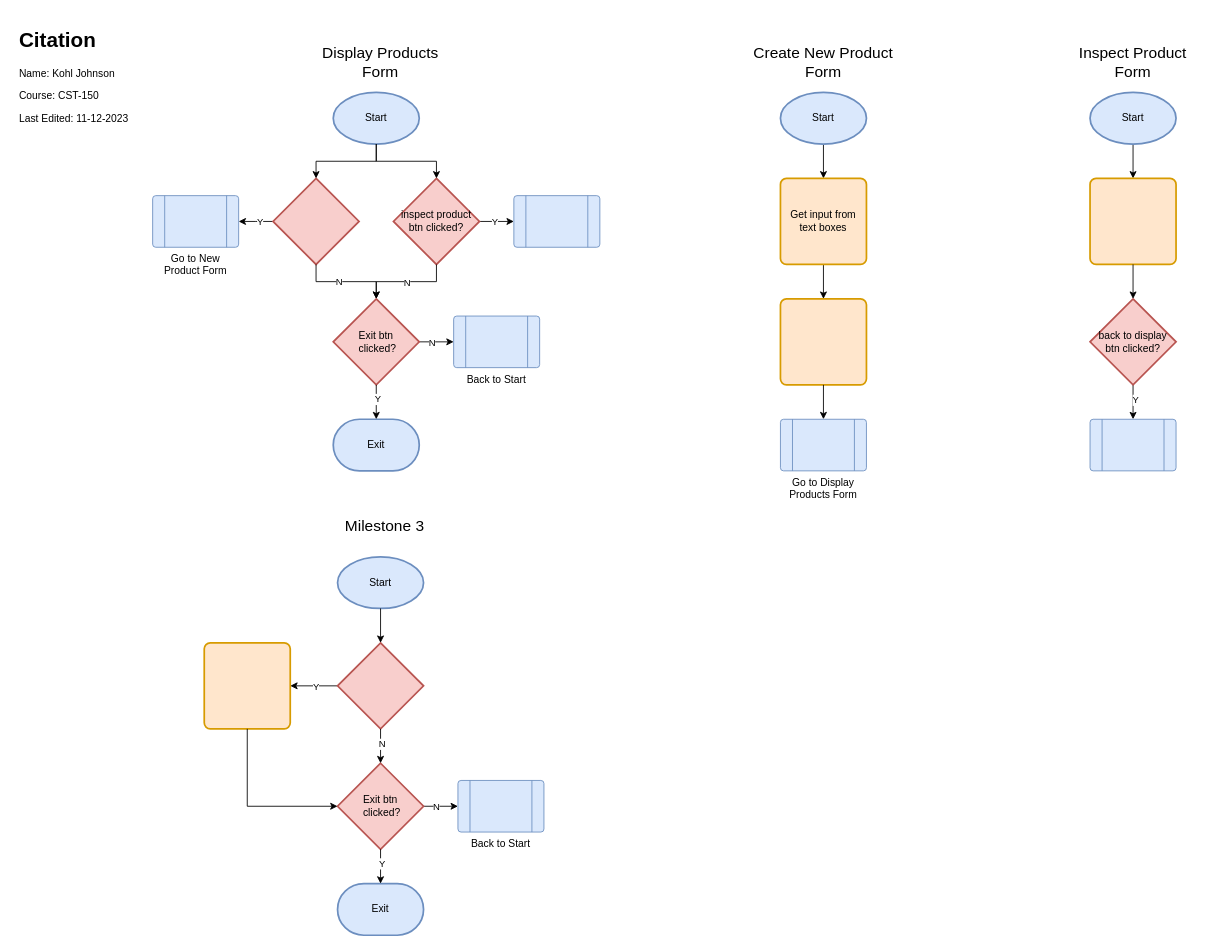
This 1220x950 diagram has some shape labels left out. The shapes that lost their labels are listed below. From the top down, each one's centre as x and y in pixels, then its label:
the point at 315,221: new product btn clicked?
the point at 556,221: Go to Inspect Product Form
the point at 1132,221: Display all info on selected product
the point at 823,341: Create new Product, add to collection
the point at 1132,444: Back to Display Products Form
the point at 247,685: Display Products
the point at 380,685: Display Products btn clicked?
